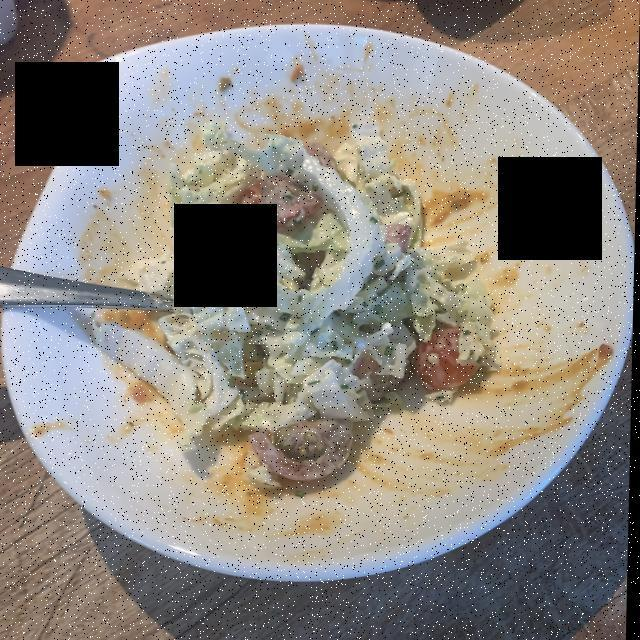salad: (119, 134, 487, 463)
tomato: (240, 185, 485, 479)
